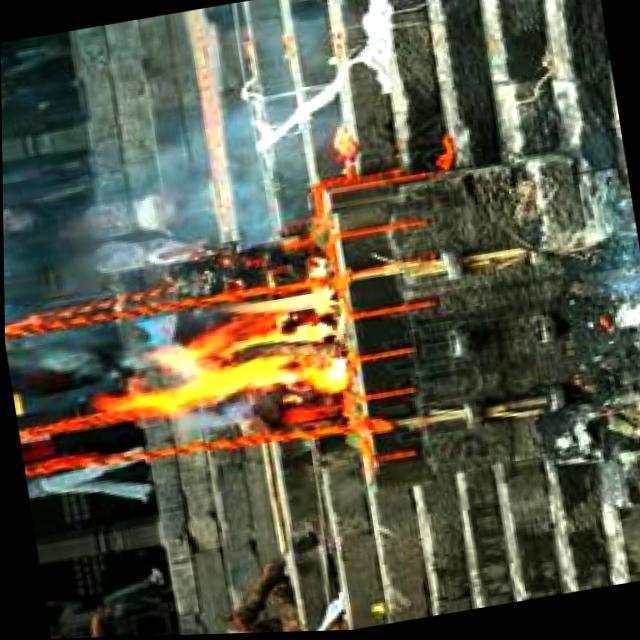Fire: (85, 281, 352, 428)
